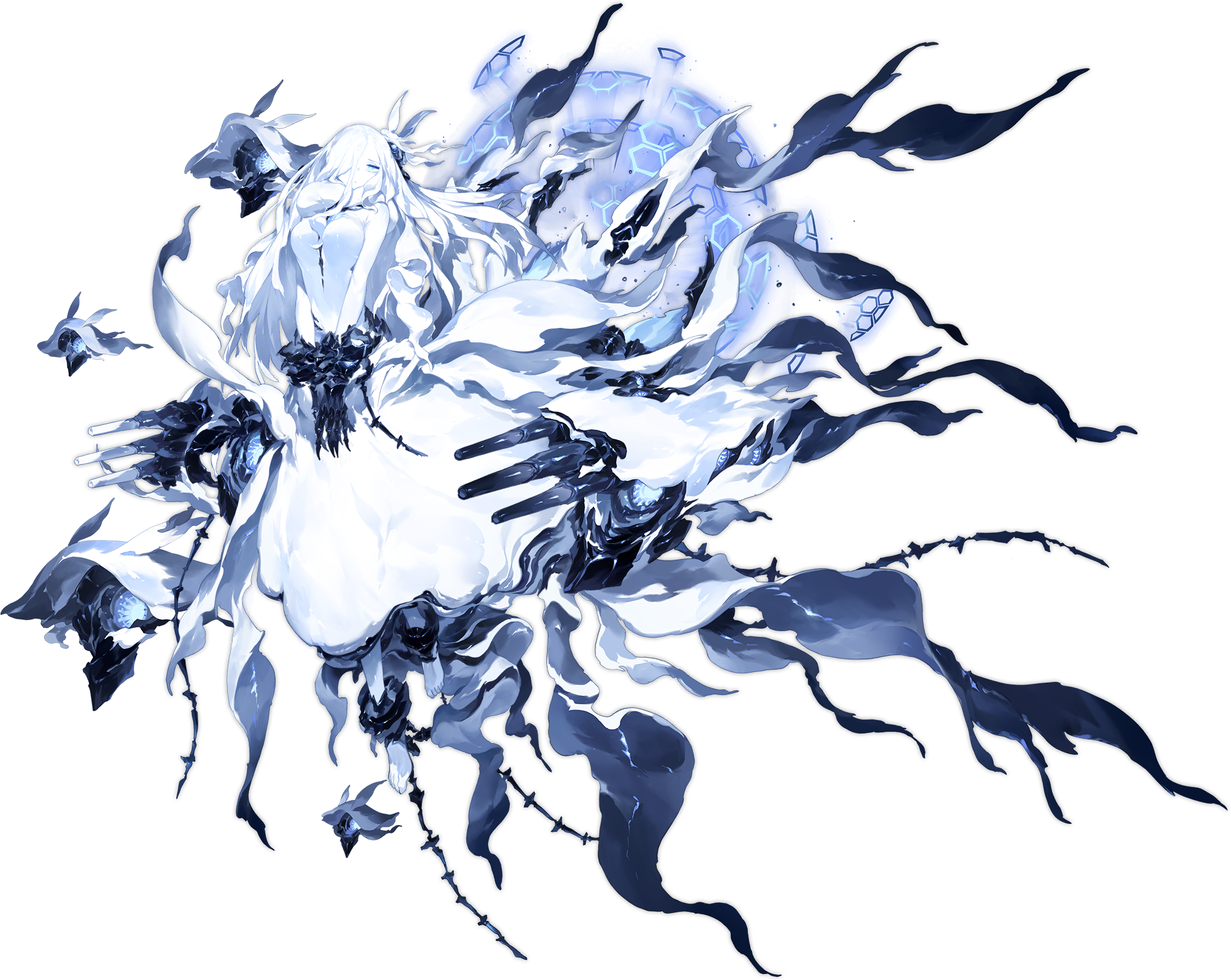person: (0, 1, 1229, 979)
